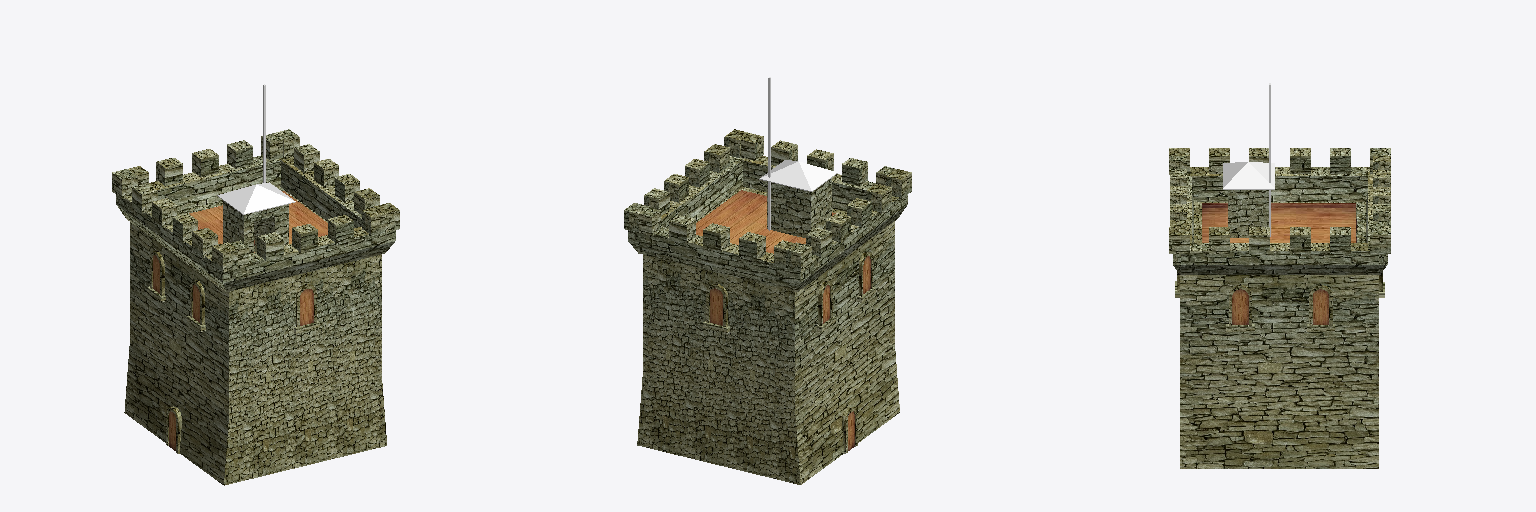
The picture shows the model from 3 angles: view 1: azimuth 30°, elevation 25°; view 2: azimuth 150°, elevation 25°; view 3: azimuth 270°, elevation 25°; orthographic projection.
Parts seen in each view (by area): view 1: Box6873, Box6893, Box6868, Box6869, Box6908, Box6872, Box6914, Box6912, Mesh84, Box6879, Box6877, Box6878 (+13 smaller); view 2: Box6873, Box6868, Box6908, Box6914, Box6869, Box6872, Box6893, Box6912, Mesh84, Box6865, Box6864, Box6866 (+12 smaller); view 3: Box6873, Box6869, Box6872, Box6914, Box6908, Box6912, Mesh84, Box6896, Box6881, Box6882, Box6883, Box6884 (+5 smaller).
Part boxes in pixels (bbox=[...]): Box6873: bbox=[124, 187, 386, 485]; Box6893: bbox=[214, 227, 395, 291]; Box6868: bbox=[116, 155, 293, 223]; Box6869: bbox=[280, 156, 361, 227]; Box6908: bbox=[223, 201, 288, 253]; Box6872: bbox=[120, 197, 218, 286]; Box6914: bbox=[189, 191, 327, 243]; Box6912: bbox=[217, 182, 294, 214]; Mesh84: bbox=[244, 185, 295, 213]; Box6879: bbox=[257, 232, 283, 261]; Box6877: bbox=[328, 215, 353, 244]; Box6878: bbox=[292, 224, 317, 252]; Box6873: bbox=[637, 187, 899, 484]; Box6868: bbox=[628, 226, 804, 291]; Box6908: bbox=[767, 178, 831, 237]; Box6914: bbox=[696, 190, 835, 253]; Box6869: bbox=[661, 156, 743, 227]; Box6872: bbox=[799, 196, 898, 290]; Box6893: bbox=[732, 156, 907, 223]; Box6912: bbox=[759, 160, 837, 191]; Mesh84: bbox=[760, 162, 810, 190]; Box6865: bbox=[703, 223, 729, 252]; Box6864: bbox=[739, 232, 765, 261]; Box6866: bbox=[669, 215, 695, 244]; Box6873: bbox=[1180, 202, 1378, 468]; Box6869: bbox=[1181, 243, 1378, 274]; Box6872: bbox=[1187, 167, 1370, 201]; Box6914: bbox=[1202, 203, 1355, 242]; Box6908: bbox=[1228, 190, 1268, 237]; Box6912: bbox=[1223, 162, 1274, 189]; Mesh84: bbox=[1223, 162, 1274, 187]; Box6896: bbox=[1232, 289, 1248, 324]; Box6881: bbox=[1209, 227, 1229, 253]; Box6882: bbox=[1330, 227, 1350, 253]; Box6883: bbox=[1249, 227, 1269, 253]; Box6884: bbox=[1290, 227, 1310, 253].
Size of the model in its own units: 78.55 by 147 by 84.84.
Materials: 5 (4 with a texture image).